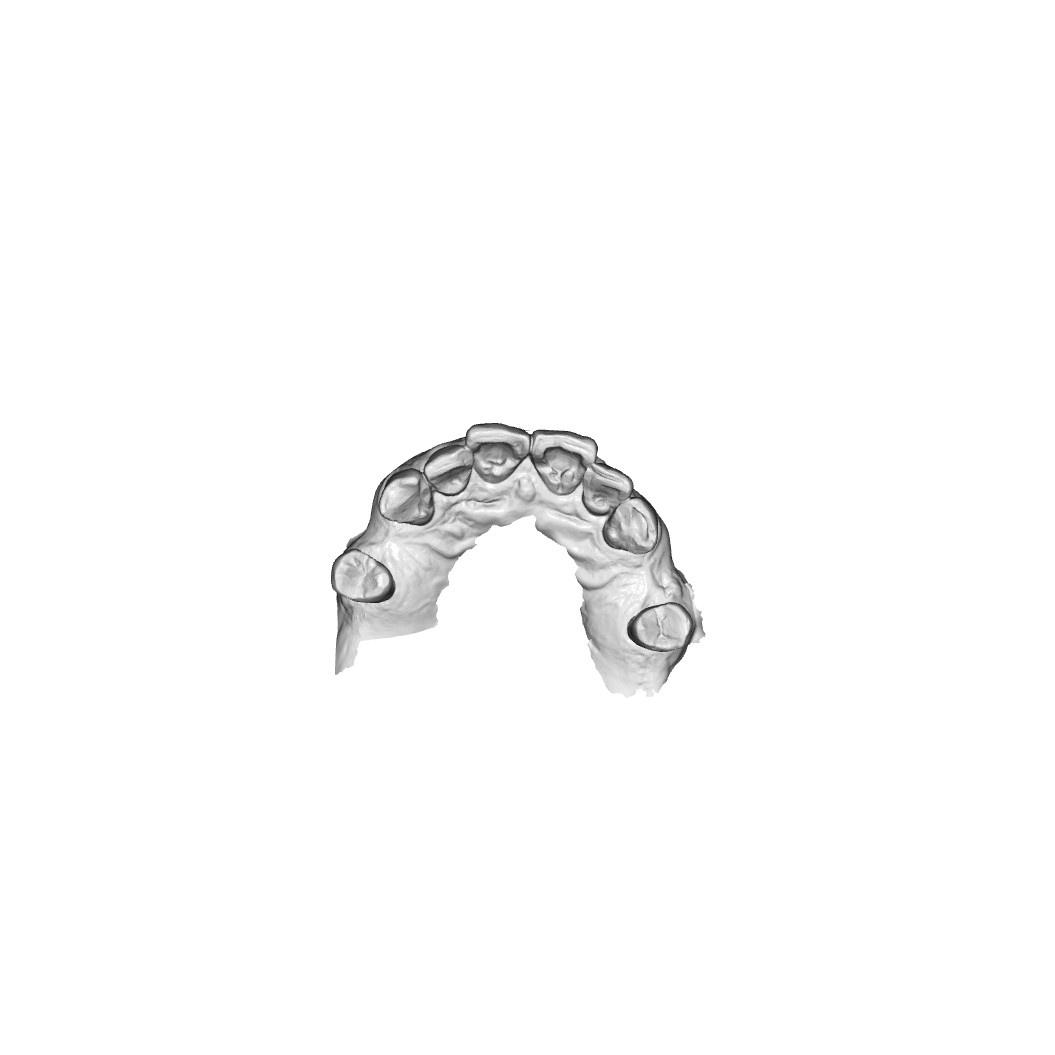canine: (376, 469, 437, 527), (604, 498, 658, 557)
incisor: (527, 430, 596, 491), (466, 422, 533, 483), (579, 460, 633, 517), (424, 443, 476, 500)
premolar: (625, 598, 693, 656), (329, 548, 397, 605)
